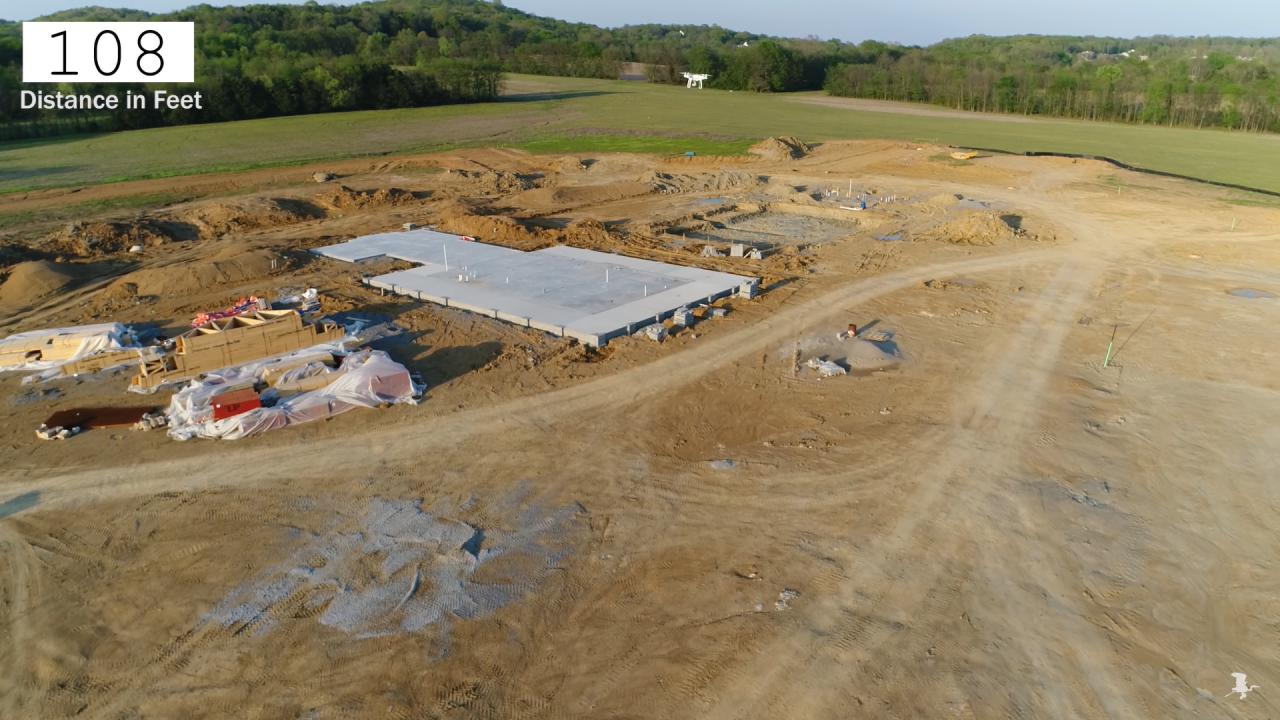Drone: (674, 62, 720, 98)
